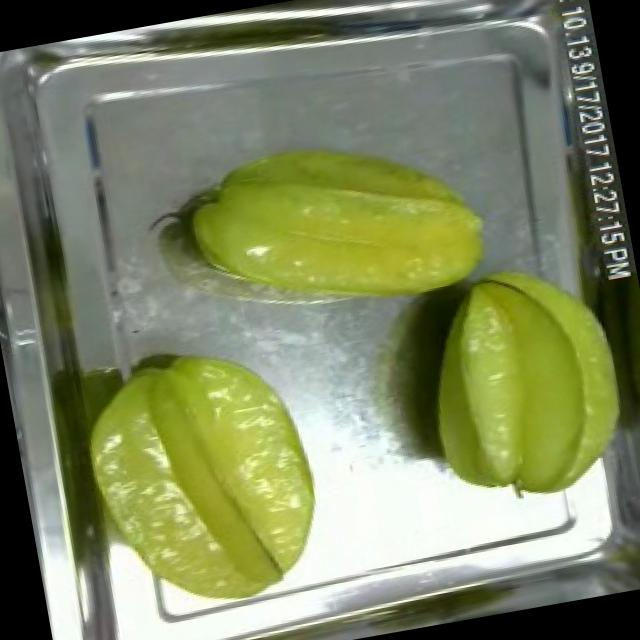fruit: (58, 319, 338, 632), (163, 102, 504, 348), (400, 240, 640, 521)
